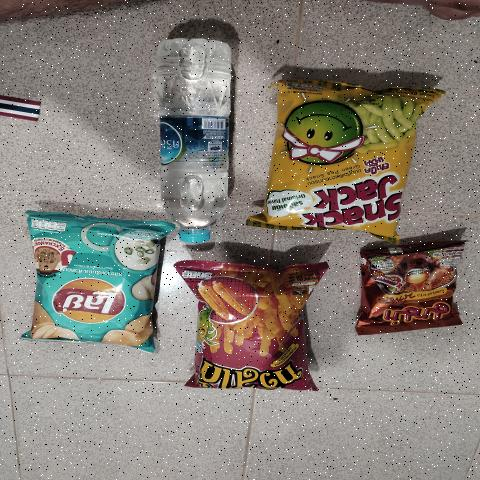crystal: (158, 29, 232, 248)
lay_blue: (39, 221, 148, 347)
mama: (361, 254, 458, 326)
snack_jack: (280, 77, 405, 228)
twisco: (193, 268, 313, 392)
